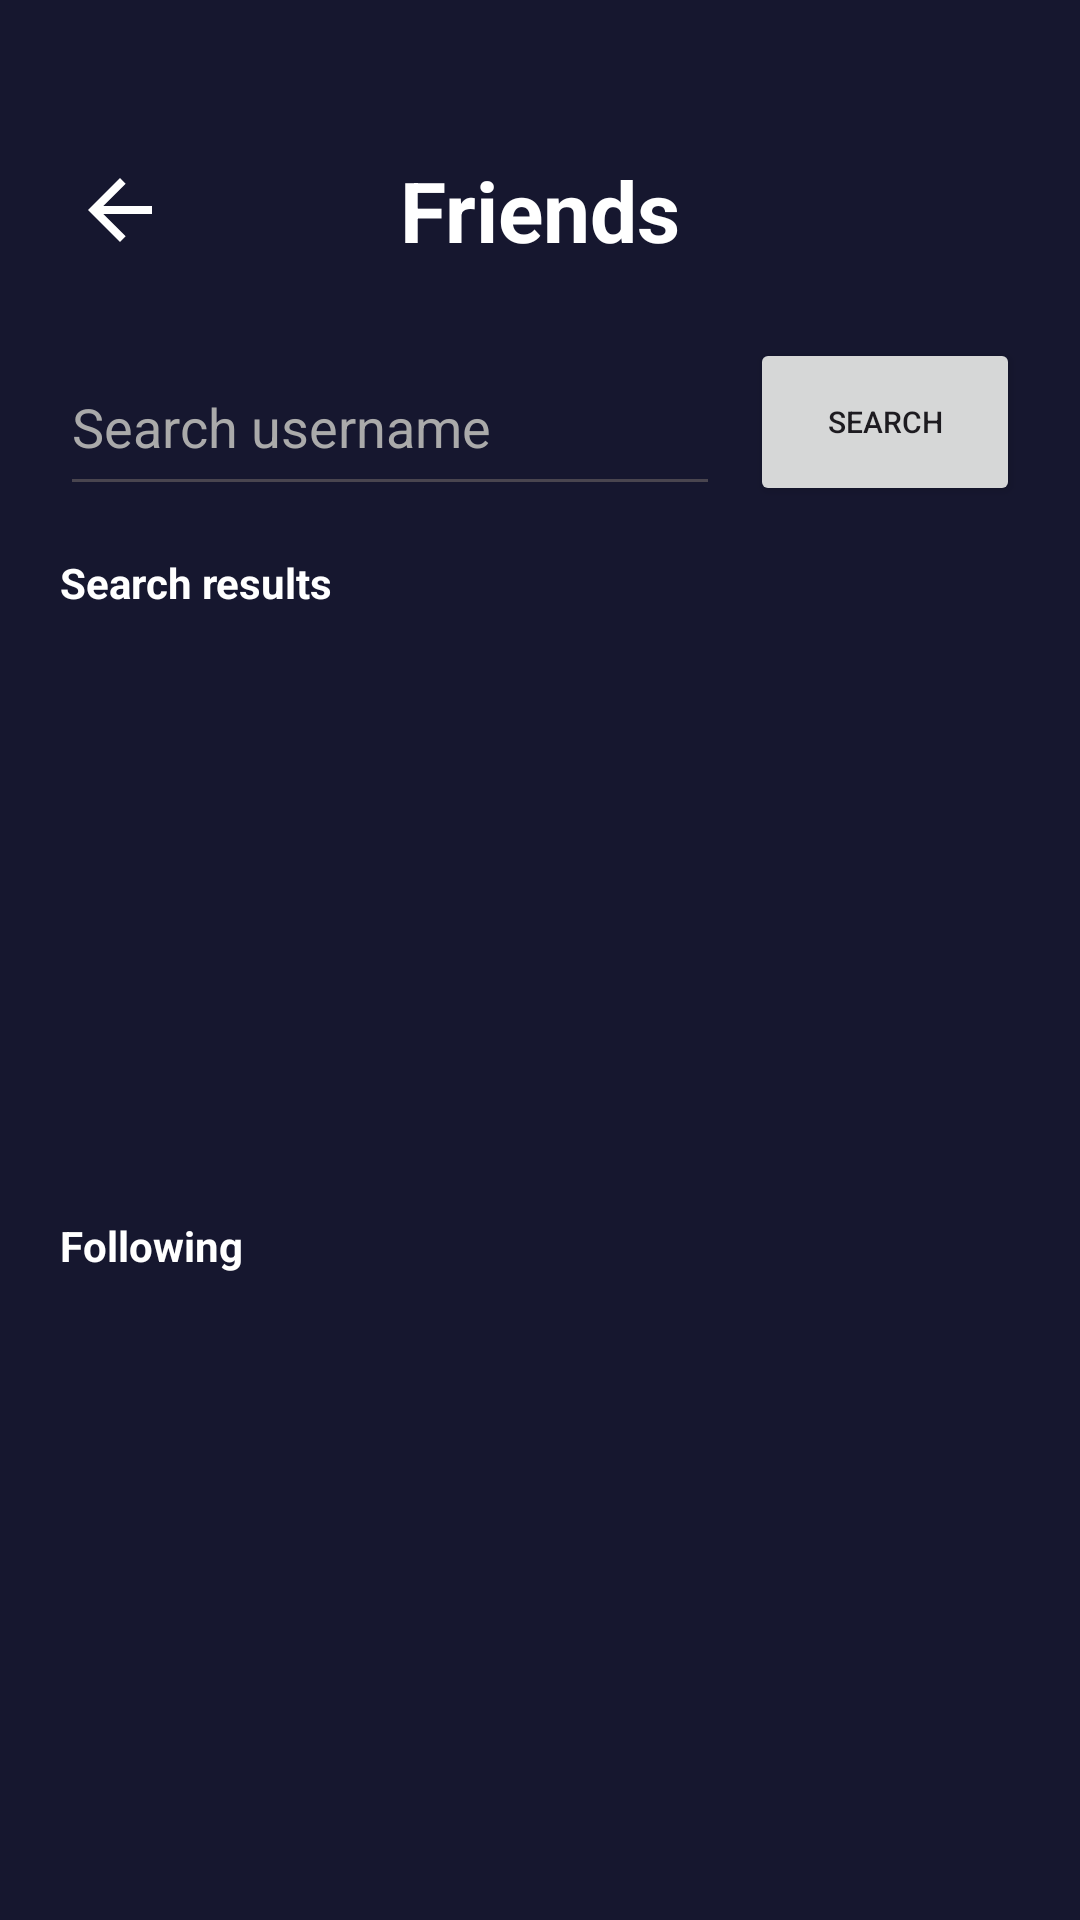

Named icons in this screenshot (1080×1920) and their bounding boxes, bbox=[x1, y1, x2, y2]:
Back: bbox=[88, 178, 152, 242]
